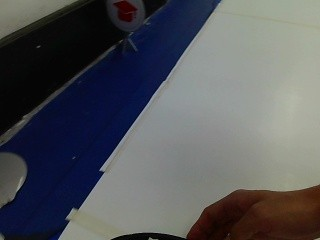school: (106, 0, 145, 35)
